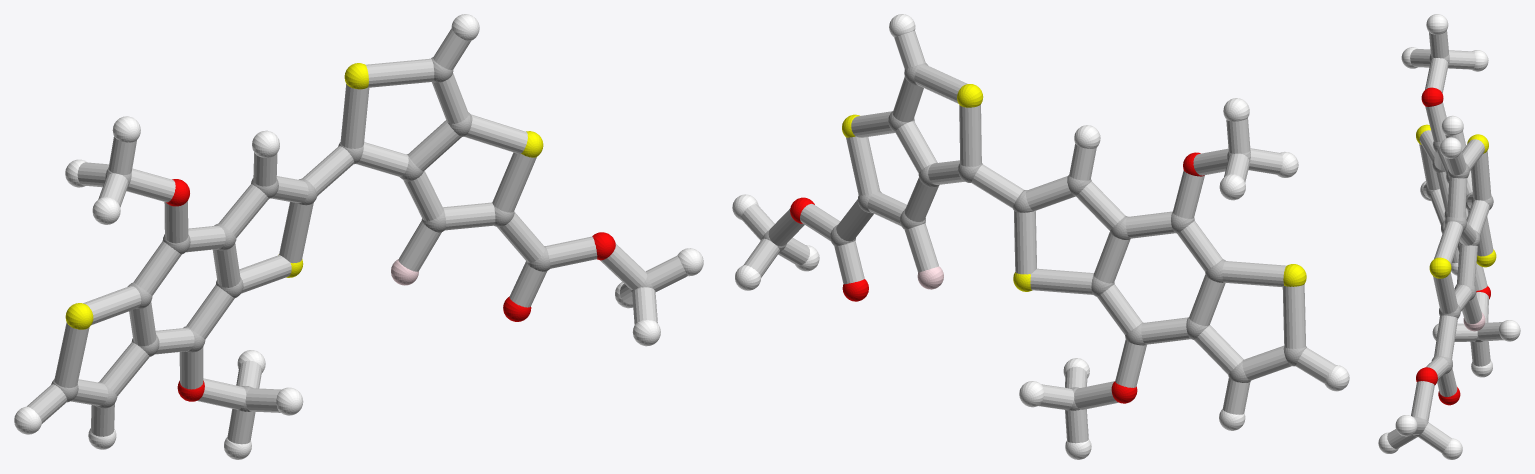
Rendered from color.glb.
The picture shows the model from 3 angles, left to right: view 1: azimuth 30°, elevation 25°; view 2: azimuth 150°, elevation 25°; view 3: azimuth 270°, elevation 25°; orthographic projection. The views are drawn at different scales.
Parts seen in each view (by area): view 1: grp15205, grp8689, grp1, grp7241, grp13395; view 2: grp15205, grp8689, grp1, grp7241, grp13395; view 3: grp15205, grp8689, grp1, grp13395, grp7241, grp14843.
Boxes of the visible parts, box(x1,y1,x2,y2) form: grp15205: box(27, 28, 687, 444); grp8689: box(14, 14, 703, 459); grp1: box(51, 57, 653, 411); grp7241: box(65, 63, 543, 329); grp13395: box(166, 179, 615, 401); grp15205: box(741, 30, 1335, 443); grp8689: box(732, 14, 1349, 459); grp1: box(762, 63, 1306, 410); grp7241: box(842, 84, 1306, 291); grp13395: box(790, 152, 1204, 403); grp15205: box(1387, 30, 1503, 452); grp8689: box(1378, 14, 1520, 459); grp1: box(1413, 53, 1493, 436); grp13395: box(1416, 87, 1490, 405); grp7241: box(1416, 124, 1496, 278); grp14843: box(1463, 312, 1485, 331).
Size of the model in its own units: 16.46 by 9.56 by 3.88.
